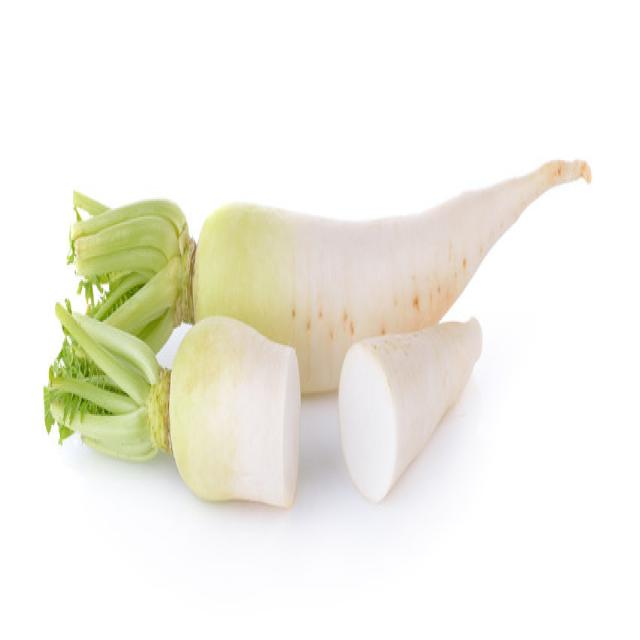Radish: (65, 153, 592, 396), (43, 297, 301, 508), (338, 315, 482, 503), (168, 313, 301, 508)
